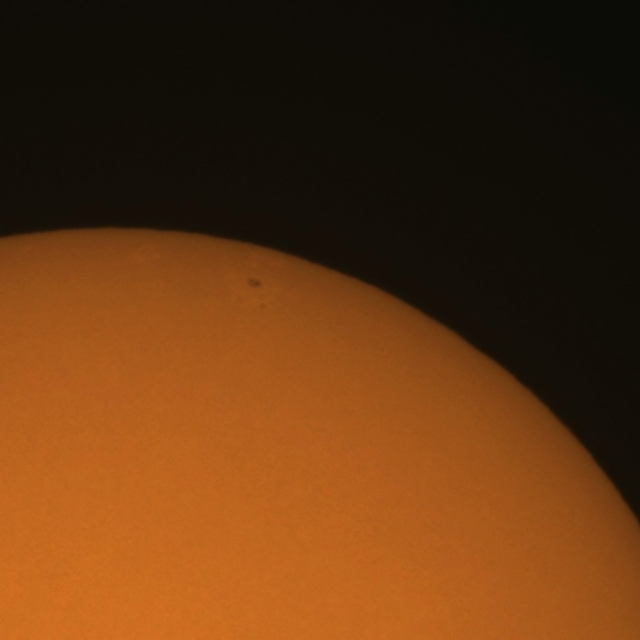sunspot: (246, 276, 263, 290)
